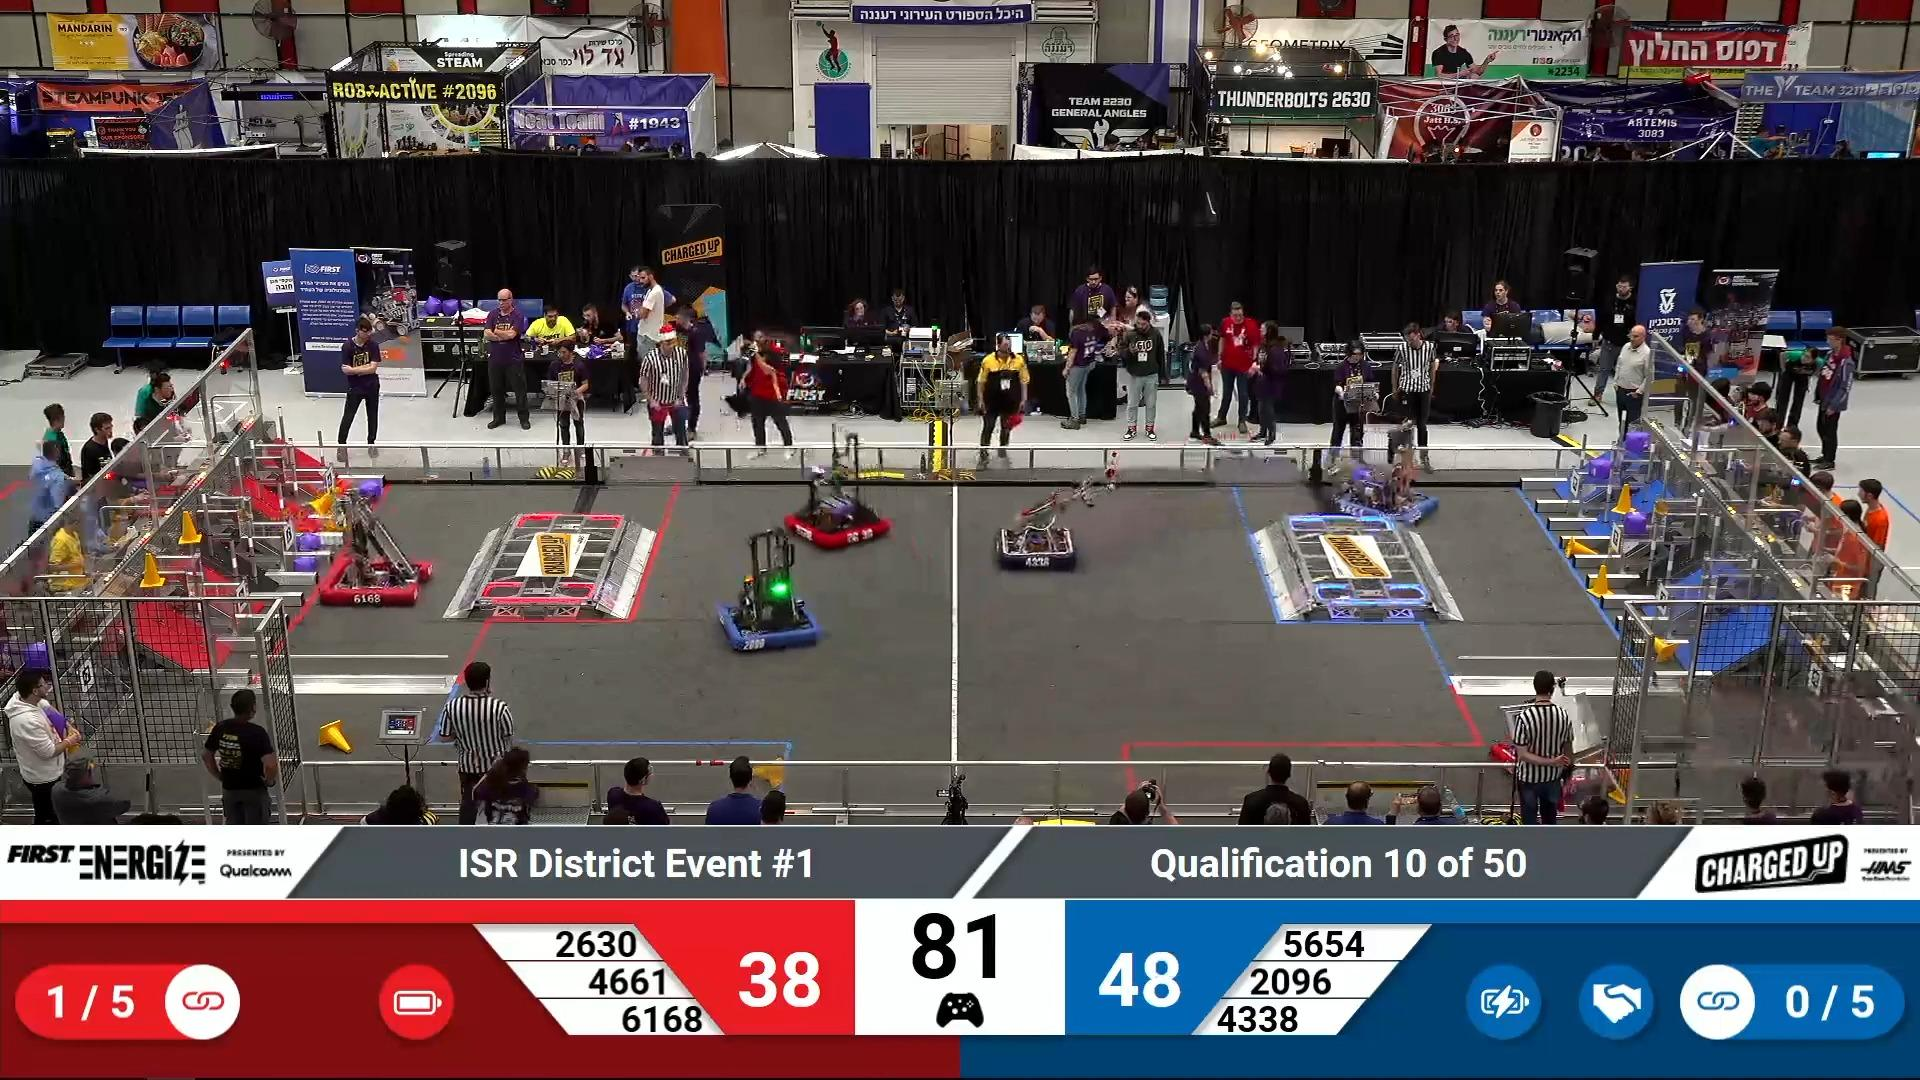robot: (1485, 700, 1630, 796), (315, 520, 430, 612), (777, 475, 893, 553), (1329, 460, 1447, 531), (716, 584, 823, 654), (986, 509, 1089, 582)
